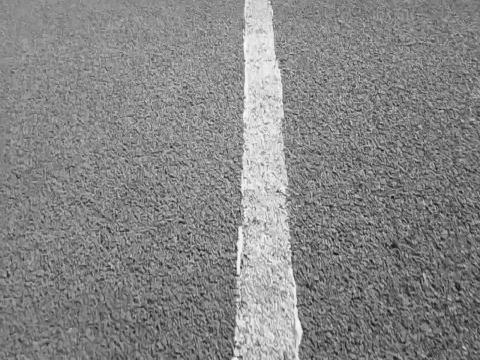Lines: (232, 0, 299, 360)
